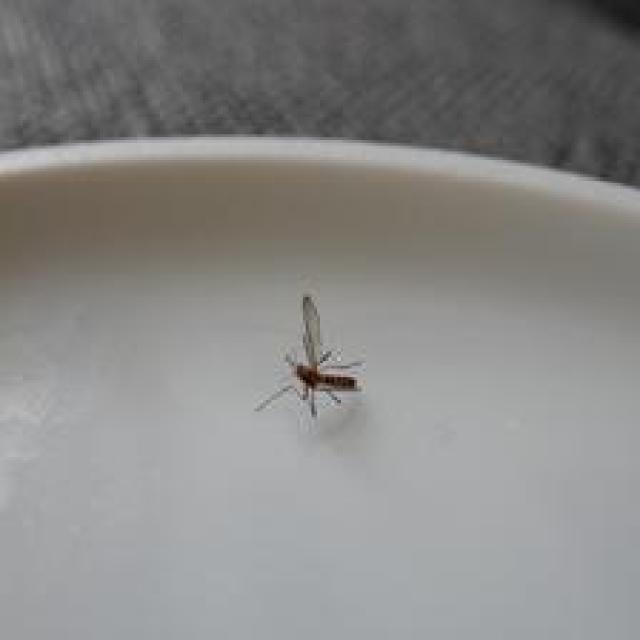Culex: (253, 293, 367, 421)
